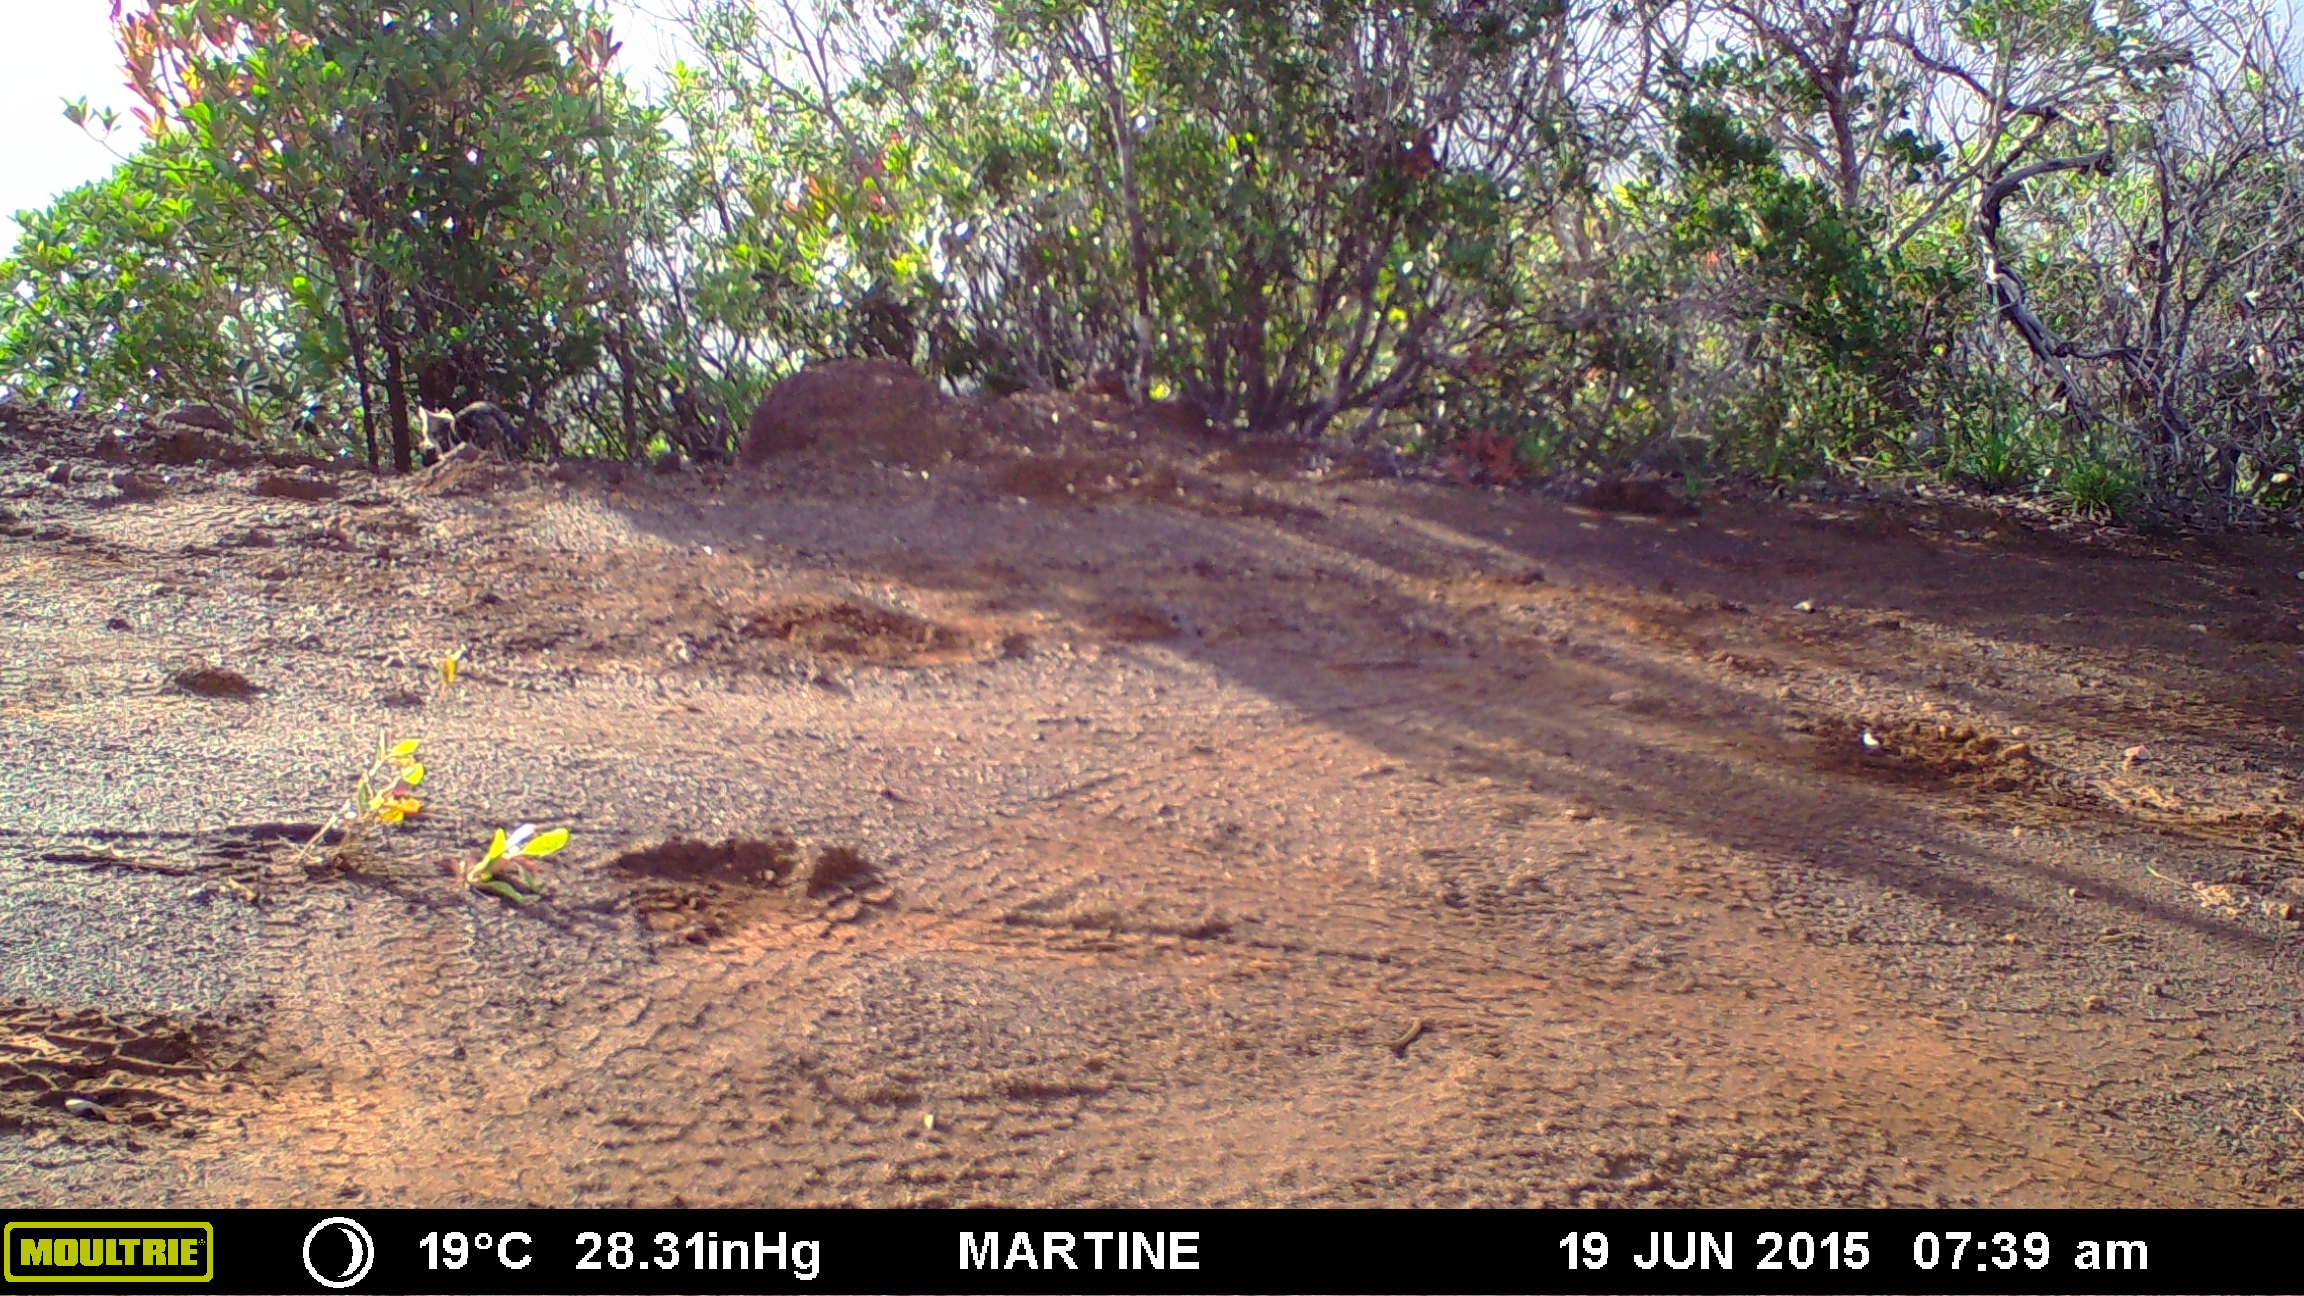cat: (411, 394, 540, 486)
